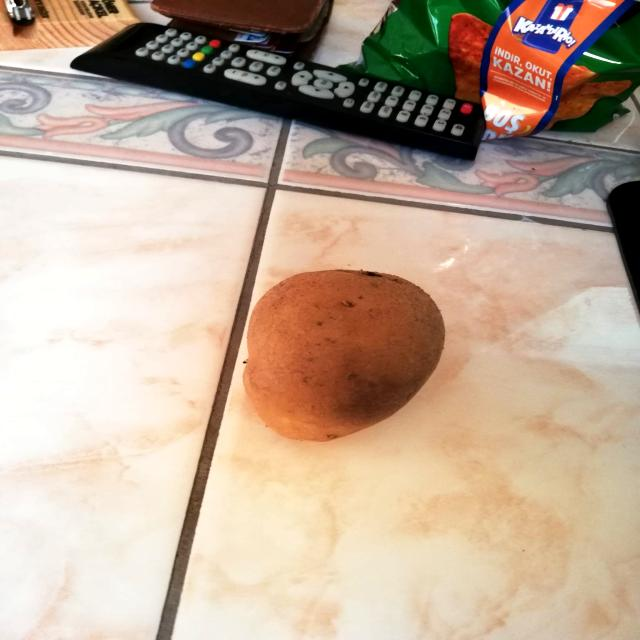potato: (233, 264, 450, 444)
